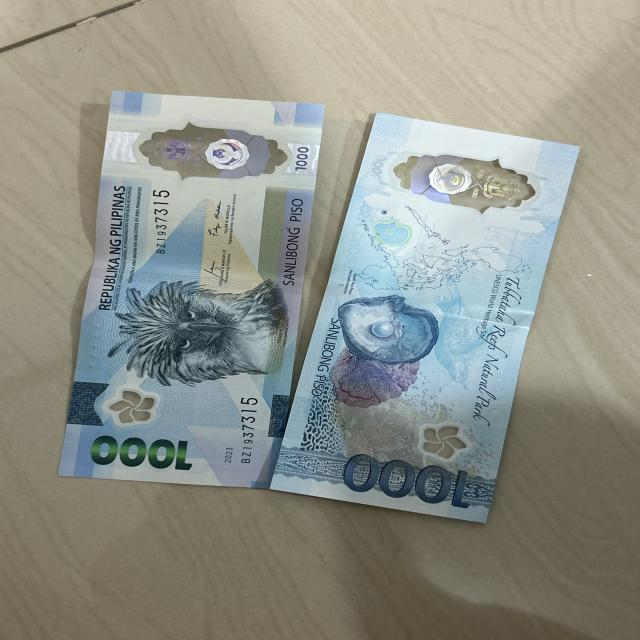clear_window: (383, 144, 532, 217), (118, 124, 302, 177)
eagle: (113, 286, 284, 376)
sampaguita: (103, 392, 160, 426), (416, 427, 476, 458)
serial_number: (224, 401, 266, 464), (148, 184, 170, 267)
value: (341, 452, 469, 504)
